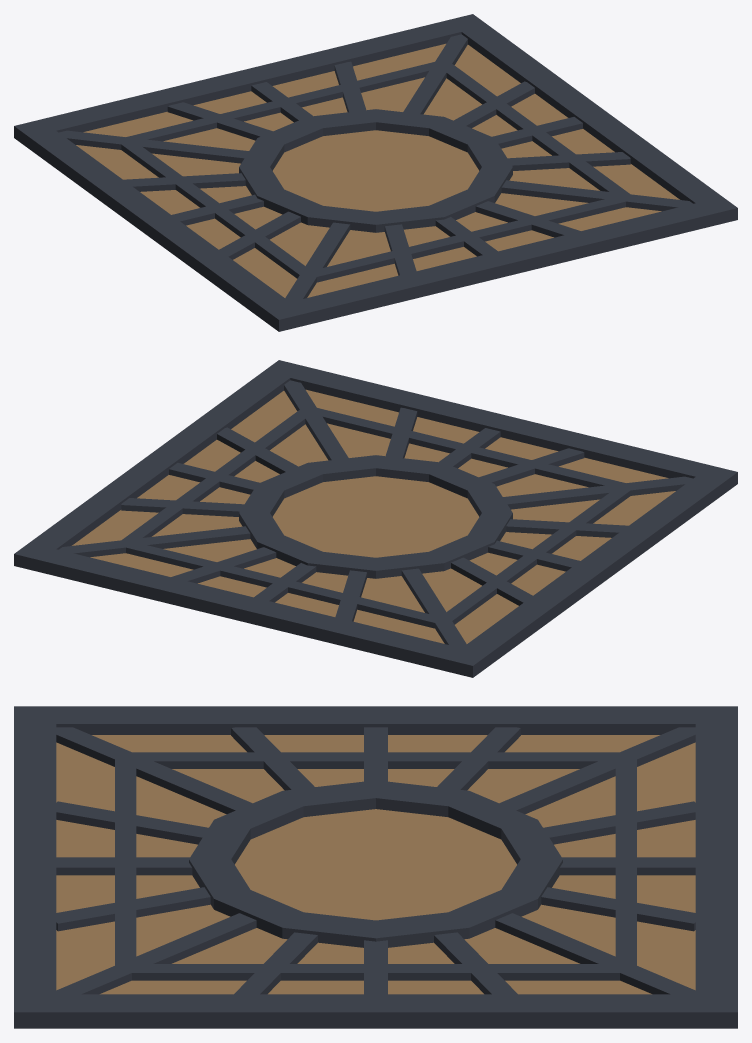
File: tree_grate.glb
3 views of the same model, one above another, from view 1: azimuth 30°, elevation 25°; view 2: azimuth 150°, elevation 25°; view 3: azimuth 270°, elevation 25° (orthographic). The views are drawn at different scales.
Parts seen in each view (by area): view 1: tree_grate; view 2: tree_grate; view 3: tree_grate.
Part boxes in pixels (box(x1,y1,x2,y2)): tree_grate: box(14, 14, 737, 331); tree_grate: box(14, 360, 737, 677); tree_grate: box(14, 706, 737, 1028).
Size of the model in its own units: 1.2 by 0.03 by 1.2.
